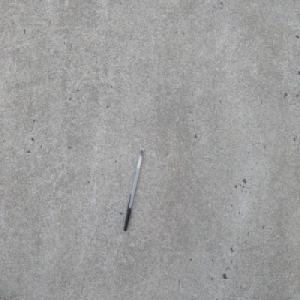Pen: (123, 148, 144, 231)
